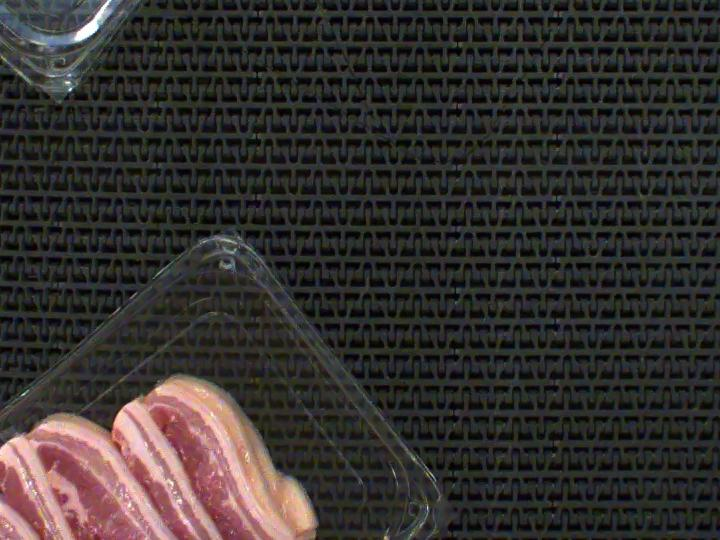packaging-error: (0, 424, 29, 445)
